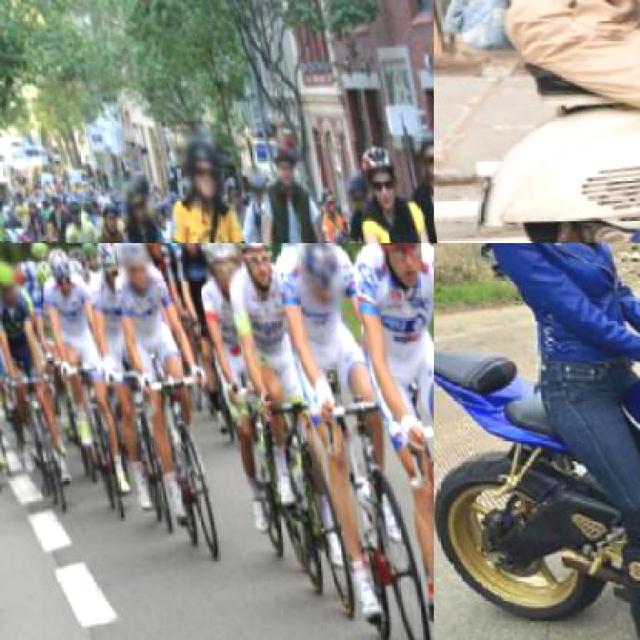With Helmet: (348, 128, 408, 214), (170, 120, 224, 208), (284, 243, 350, 311), (354, 243, 432, 286), (222, 243, 282, 291), (109, 243, 157, 297), (110, 168, 153, 226), (266, 123, 302, 192), (37, 243, 77, 297), (193, 243, 244, 285), (406, 114, 432, 180), (338, 158, 371, 208), (88, 187, 121, 235), (0, 245, 23, 312), (91, 243, 123, 285), (242, 160, 268, 200), (57, 189, 81, 226), (170, 243, 204, 259)
